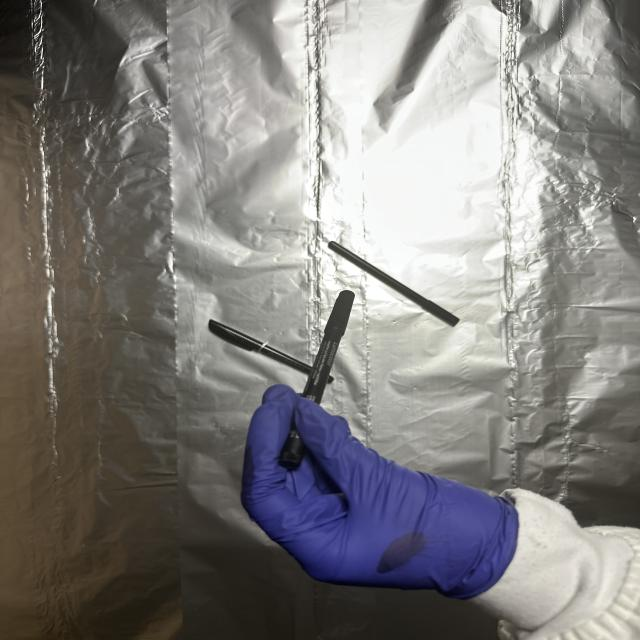gloves_contaminated: (242, 385, 518, 598)
